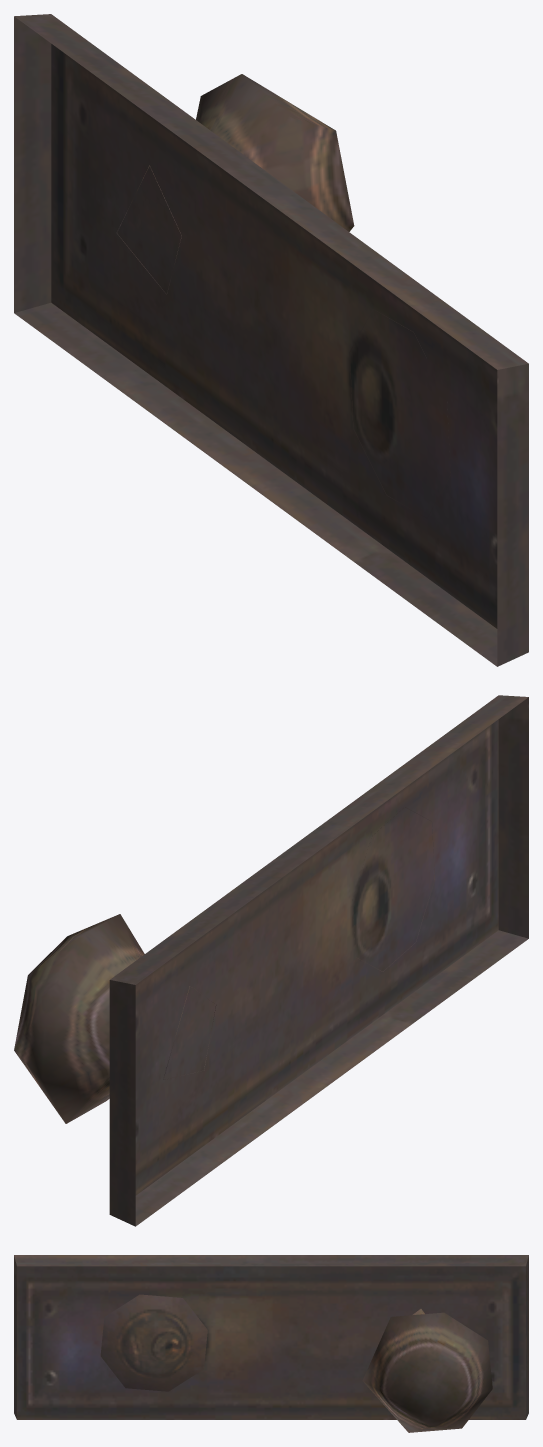
The model's file is p_glo_doorknob1_LOD2.obj.
3 renders of one model, top to bottom at view 1: azimuth 30°, elevation 25°; view 2: azimuth 150°, elevation 25°; view 3: azimuth 270°, elevation 25°, orthographic. The views are drawn at different scales.
Parts seen in each view (by area): view 1: mtl_p_glo_doorknob; view 2: mtl_p_glo_doorknob; view 3: mtl_p_glo_doorknob.
Part boxes in pixels (left/top/right/bottom): mtl_p_glo_doorknob: left=14, top=14, right=528, bottom=666; mtl_p_glo_doorknob: left=14, top=695, right=528, bottom=1226; mtl_p_glo_doorknob: left=14, top=1255, right=528, bottom=1432.
Size of the model in its own units: 7.48 by 10.45 by 30.84.
